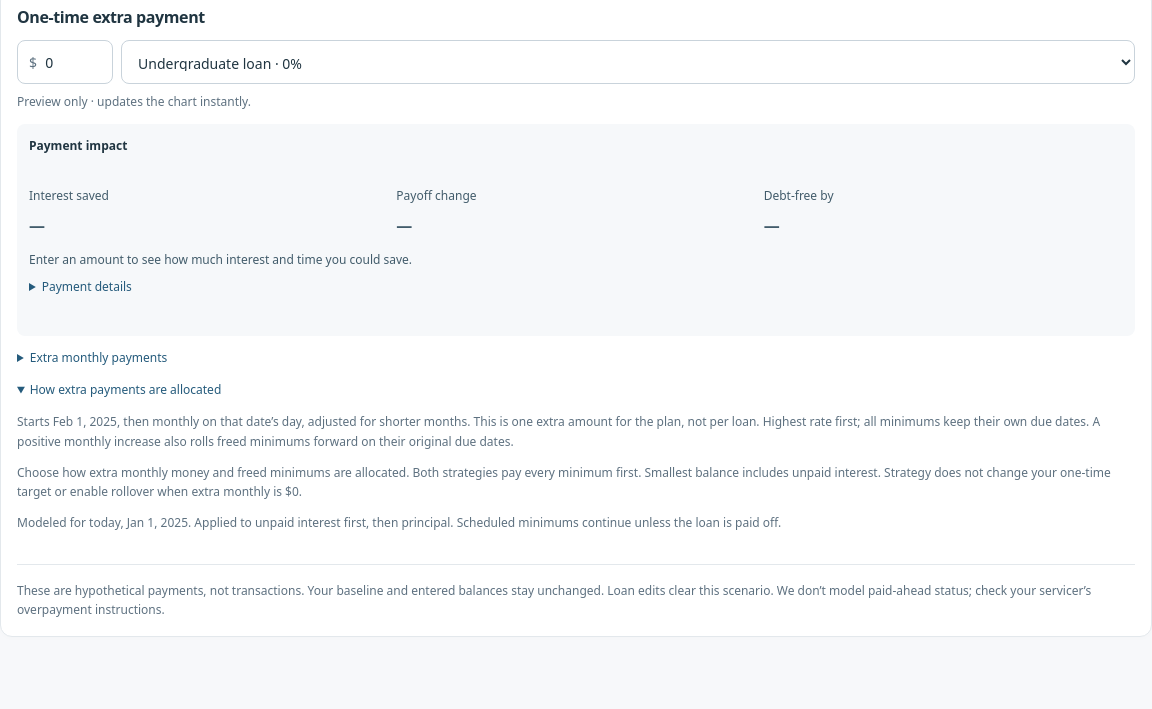
one-time payment simulator › updates one-time results live when the amount changes
This screenshot has width=1152, height=709.
Replace the text in the field with id "extra-payment-amount" with "300" at [65, 62], box left=17, top=40, right=113, bottom=84
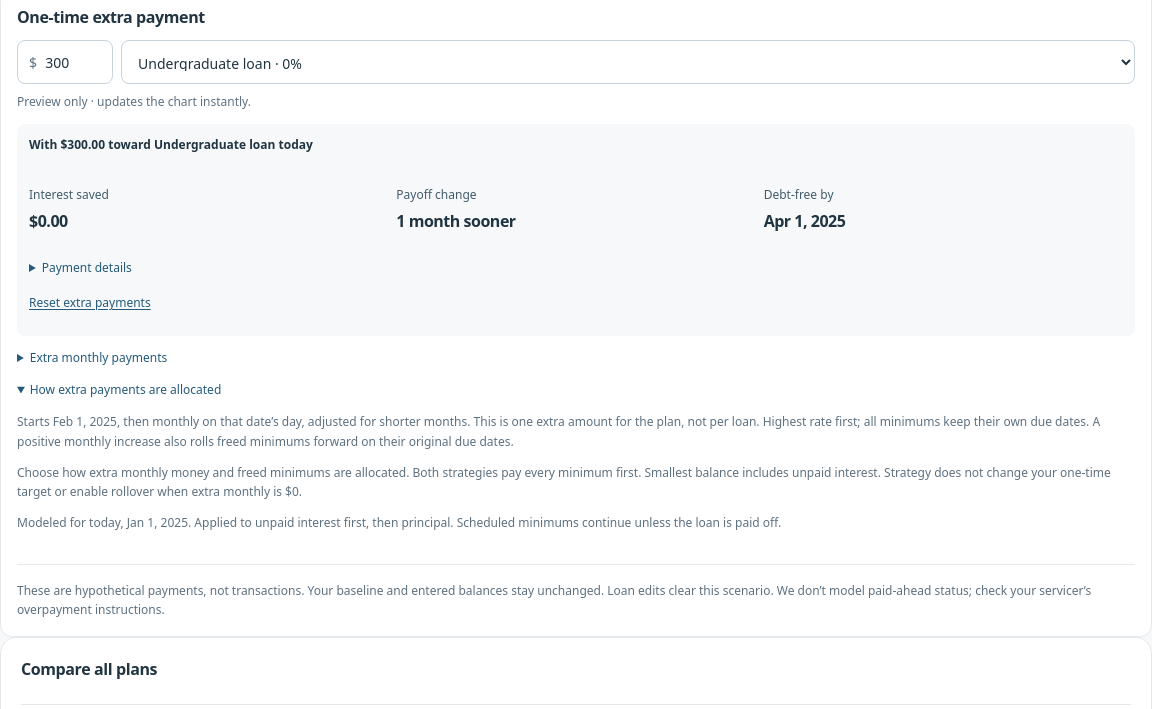
Submit the form
Replace the text in the field with id "extra-payment-amount" with "2000" at [65, 62], box left=17, top=40, right=113, bottom=84
(page scrolled)
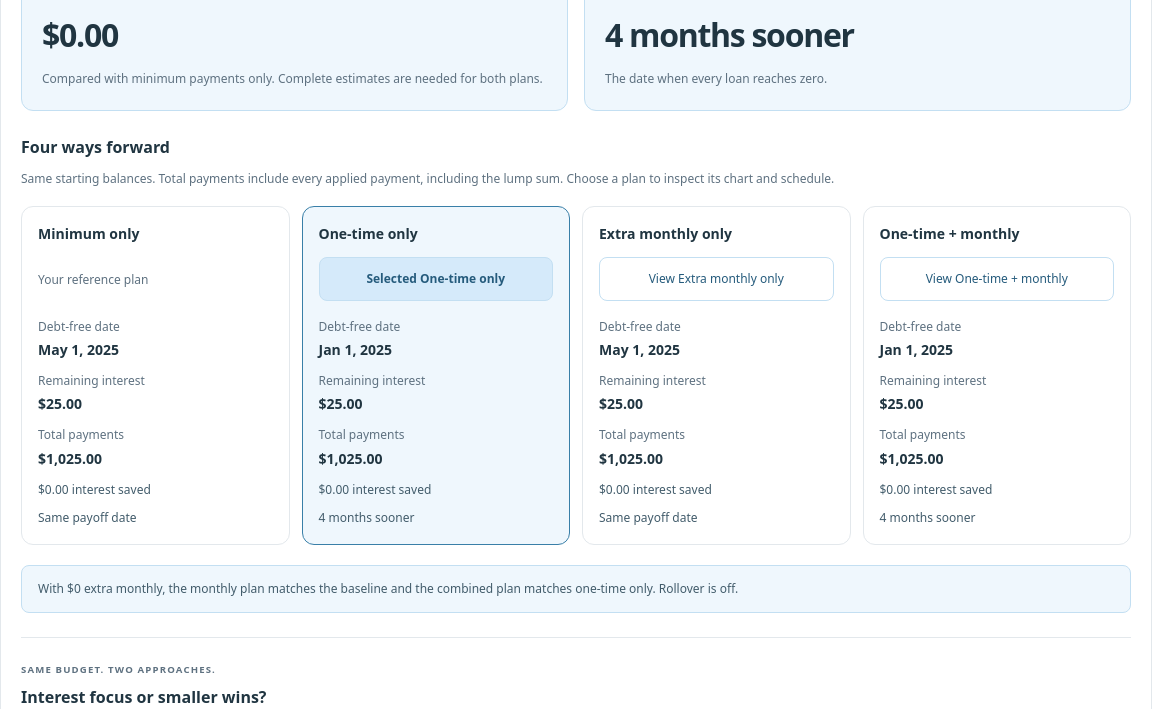
Check: the text with test id "extra-payoff-date" reads "Jan 1, 2025", box left=318, top=340, right=392, bottom=359
